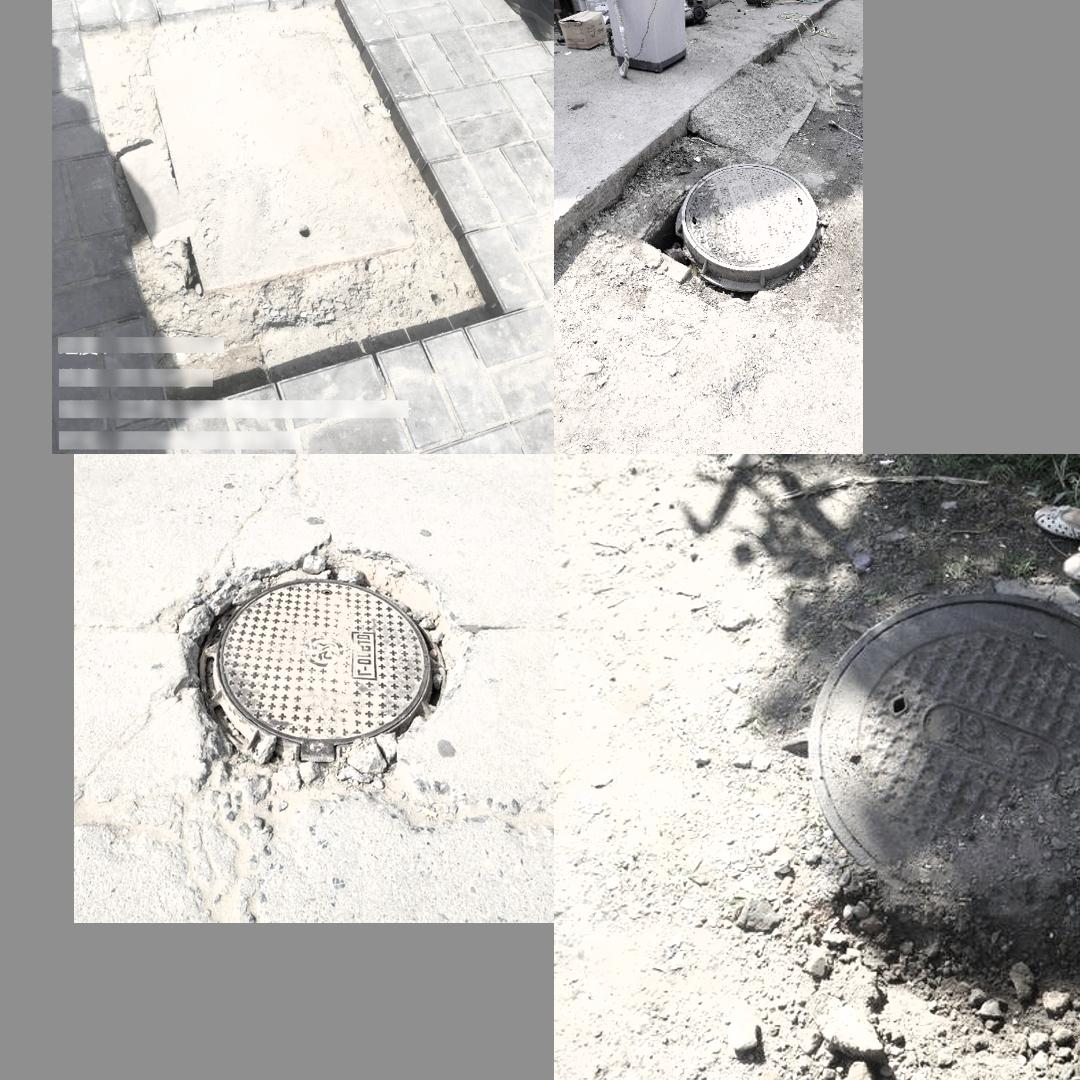circle: (79, 10, 498, 354), (718, 583, 1080, 958), (156, 537, 483, 798), (654, 154, 825, 297)
